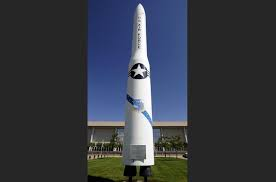ten_lua: (123, 3, 155, 180)
